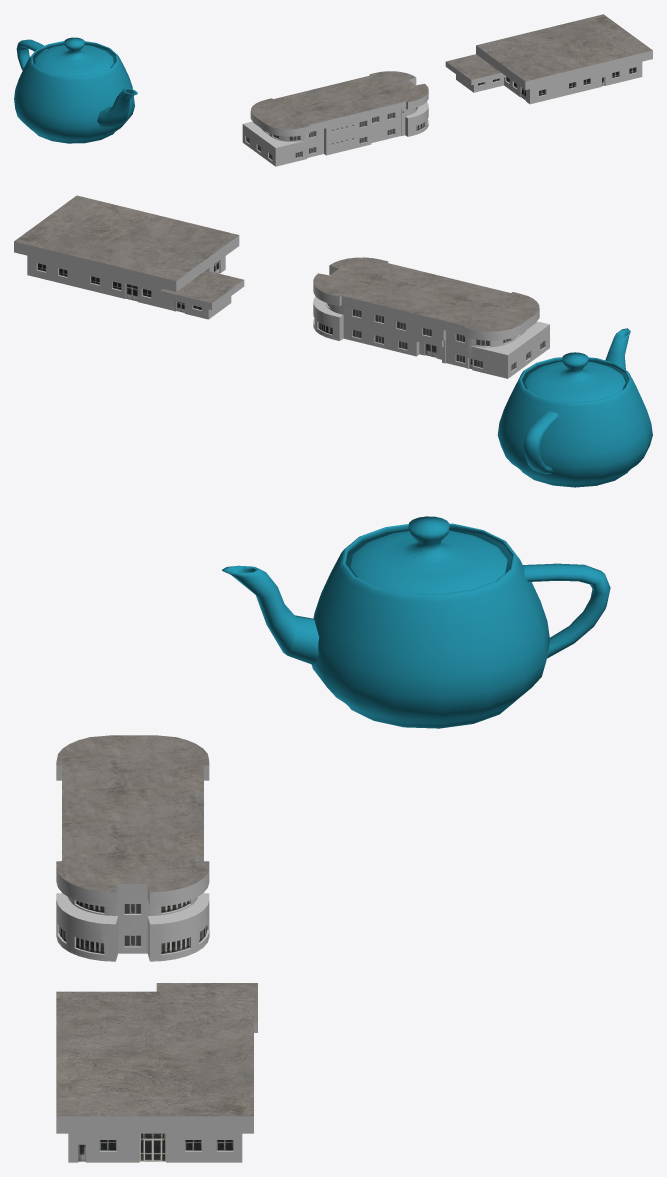
Rendered from textures.DAE.
3 renders of one model, top to bottom at view 1: azimuth 30°, elevation 25°; view 2: azimuth 150°, elevation 25°; view 3: azimuth 270°, elevation 25°, orthographic. The views are drawn at different scales.
Parts seen in each view (by area): view 1: office_building_2, office_building_1, Teapot001; view 2: office_building_2, office_building_1, Teapot001; view 3: Teapot001, office_building_1, office_building_2.
Part boxes in pixels (<box>): office_building_2: <box>242,71,428,166</box>; office_building_1: <box>445,14,652,104</box>; Teapot001: <box>14,37,137,143</box>; office_building_2: <box>313,257,549,378</box>; office_building_1: <box>14,195,244,319</box>; Teapot001: <box>497,328,652,487</box>; Teapot001: <box>222,516,610,728</box>; office_building_1: <box>56,983,257,1162</box>; office_building_2: <box>56,735,209,961</box>.
Bounding box in the file's own units: 143 × 64.02 × 22.16.
